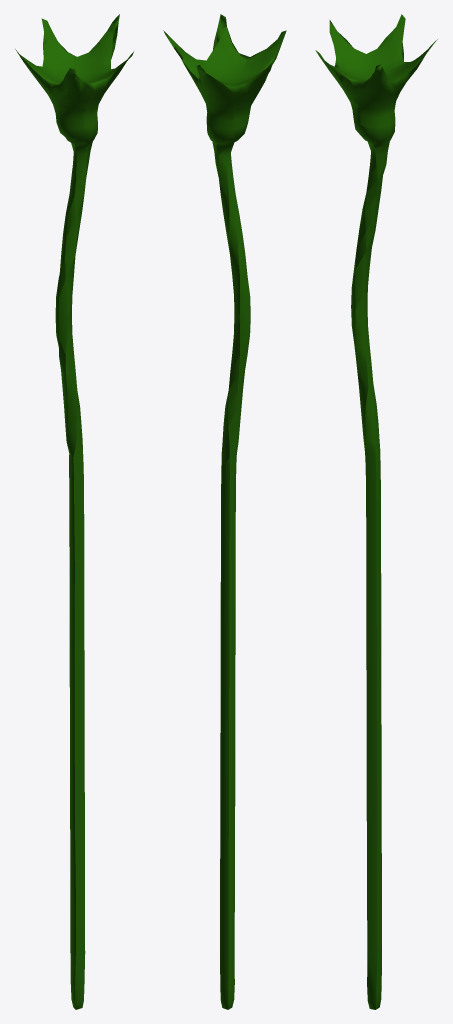
File: stem.glb
The picture shows the model from 3 angles, left to right: view 1: azimuth 30°, elevation 25°; view 2: azimuth 150°, elevation 25°; view 3: azimuth 330°, elevation 25°; orthographic projection.
Parts seen in each view (by area): view 1: stem; view 2: stem; view 3: stem.
Boxes of the visible parts, x1,y1,x2,y2 form: stem: (15,14,133,1009); stem: (163,14,286,1009); stem: (315,14,437,1009).
Bounding box in the file's own units: 0.115 × 0.9953 × 0.1065.
1 material, 1 textured.
